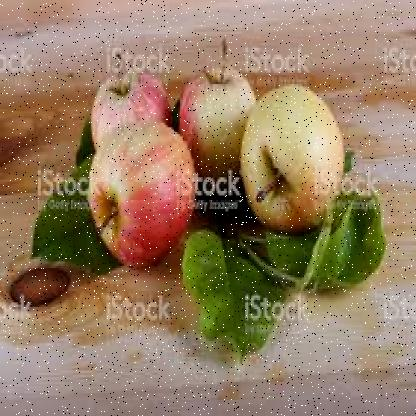apple: (244, 84, 352, 227), (93, 125, 194, 259), (177, 61, 259, 164), (96, 71, 172, 143)
